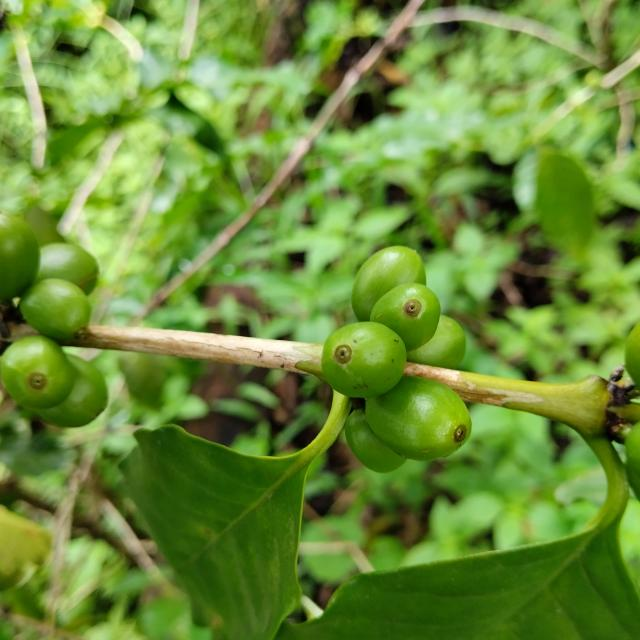green: (366, 376, 472, 461), (321, 322, 407, 399), (351, 246, 426, 321), (0, 336, 75, 409), (35, 354, 107, 428), (370, 283, 441, 351), (18, 278, 90, 341), (345, 409, 407, 473), (0, 211, 39, 301), (35, 242, 98, 294), (407, 315, 466, 369)
